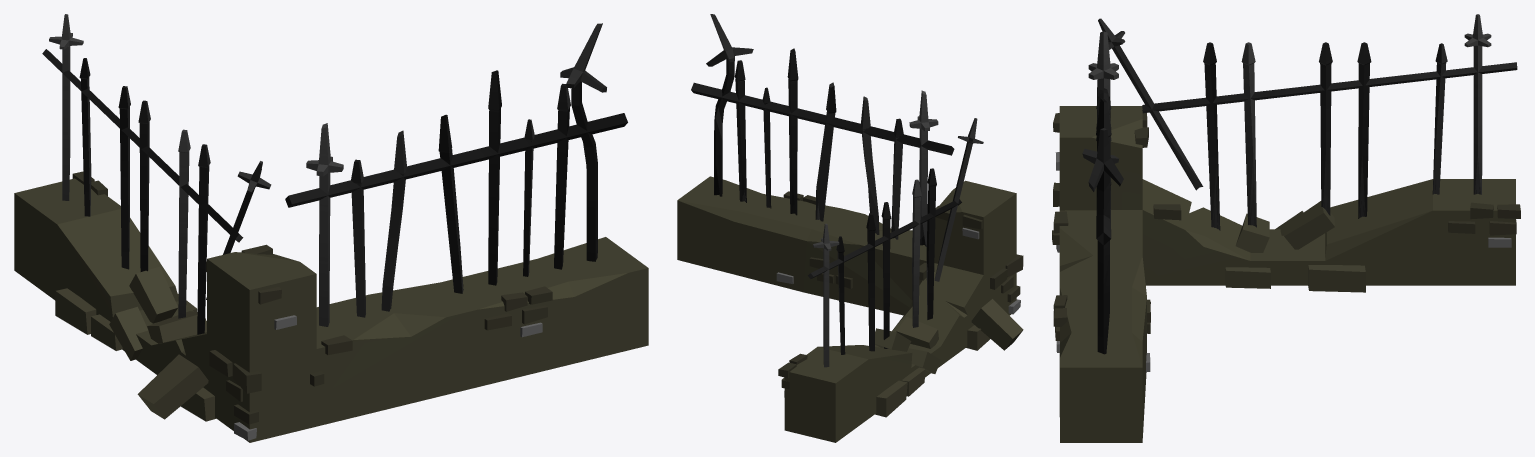
The model's file is ea_arch_wall03_corner_01b_pre_1_lev1.glb.
The picture shows the model from 3 angles, left to right: view 1: azimuth 30°, elevation 25°; view 2: azimuth 150°, elevation 25°; view 3: azimuth 270°, elevation 25°; orthographic projection. The views are drawn at different scales.
Parts seen in each view (by area): view 1: ea_arch_wall03_corner_01b_pre_1_lev1; view 2: ea_arch_wall03_corner_01b_pre_1_lev1; view 3: ea_arch_wall03_corner_01b_pre_1_lev1.
Part boxes in pixels (bbox=[...]): ea_arch_wall03_corner_01b_pre_1_lev1: bbox=[14, 14, 648, 442]; ea_arch_wall03_corner_01b_pre_1_lev1: bbox=[677, 14, 1023, 442]; ea_arch_wall03_corner_01b_pre_1_lev1: bbox=[1052, 14, 1520, 442].
Size of the model in its own units: 4.87 by 3.23 by 4.5.
Materials: 1 (1 with a texture image).
